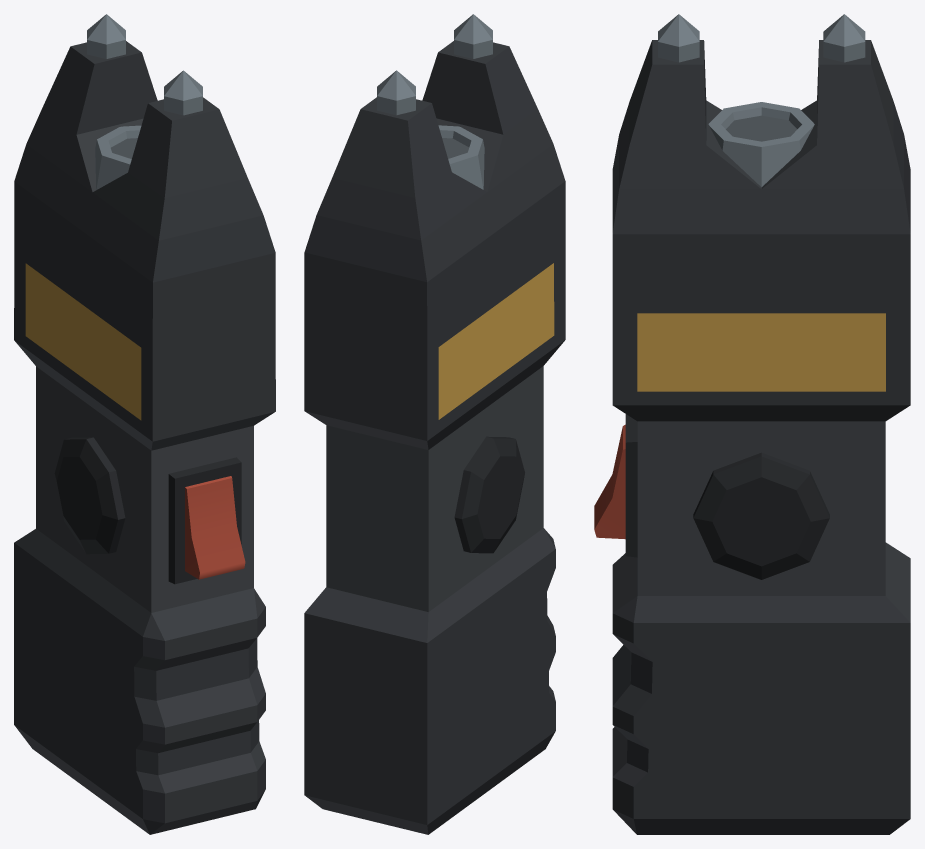
The model's file is SM_Wep_Stungun_02.fbx.
3 views of the same model, side by side, from view 1: azimuth 30°, elevation 25°; view 2: azimuth 150°, elevation 25°; view 3: azimuth 270°, elevation 25° (orthographic). The views are drawn at different scales.
Visible parts, largest first — view 1: SM_Wep_Stungun_02; view 2: SM_Wep_Stungun_02; view 3: SM_Wep_Stungun_02.
Part boxes in pixels (<box>): SM_Wep_Stungun_02: <box>14,14,275,834</box>; SM_Wep_Stungun_02: <box>304,14,565,834</box>; SM_Wep_Stungun_02: <box>594,14,910,834</box>.
Bounding box in the file's own units: 6.17 × 33.26 × 12.02.
Materials: 1 (1 with a texture image).
